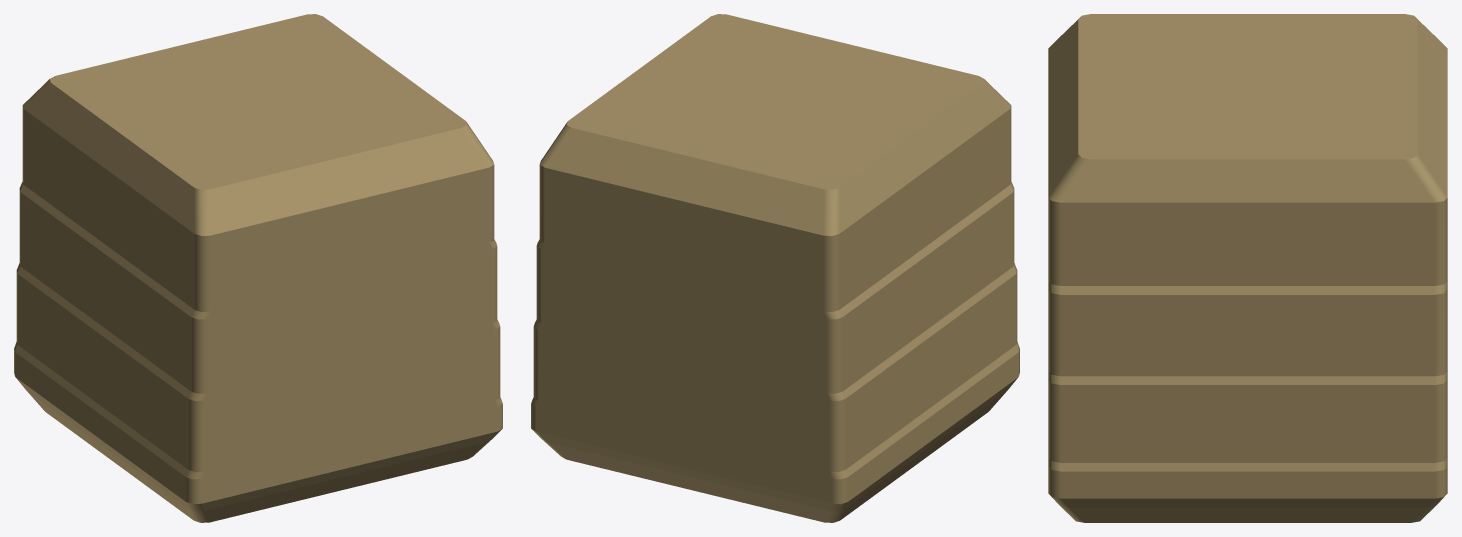
The model's file is machine-sifter-unit.glb.
The picture shows the model from 3 angles, left to right: view 1: azimuth 30°, elevation 25°; view 2: azimuth 150°, elevation 25°; view 3: azimuth 270°, elevation 25°; orthographic projection. The views are drawn at different scales.
Visible parts, largest first — view 1: Machine-sifter-unitBody; view 2: Machine-sifter-unitBody; view 3: Machine-sifter-unitBody.
Boxes of the visible parts, box(x1,y1,x2,y2) form: Machine-sifter-unitBody: box(14, 14, 502, 522); Machine-sifter-unitBody: box(531, 14, 1019, 522); Machine-sifter-unitBody: box(1048, 14, 1447, 522).
Size of the model in its own units: 1 by 1 by 1.
